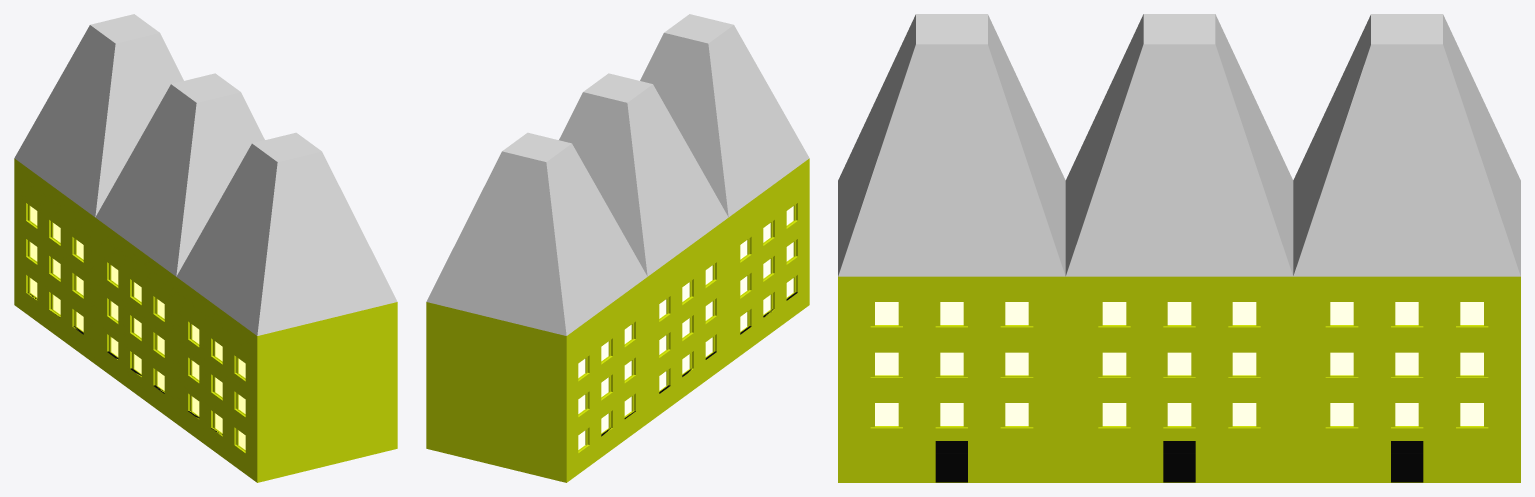
The model's file is 3_storey_house_1(3).fbx.
3 views of the same model, side by side, from view 1: azimuth 30°, elevation 25°; view 2: azimuth 150°, elevation 25°; view 3: azimuth 270°, elevation 25° (orthographic). The views are drawn at different scales.
Parts seen in each view (by area): view 1: Cube; view 2: Cube; view 3: Cube.
Boxes of the visible parts, x1=… form: Cube: x1=14, y1=14, x2=397, y2=482; Cube: x1=426, y1=14, x2=809, y2=482; Cube: x1=838, y1=14, x2=1520, y2=482.
Size of the model in its own units: 28 by 55.07 by 84.
